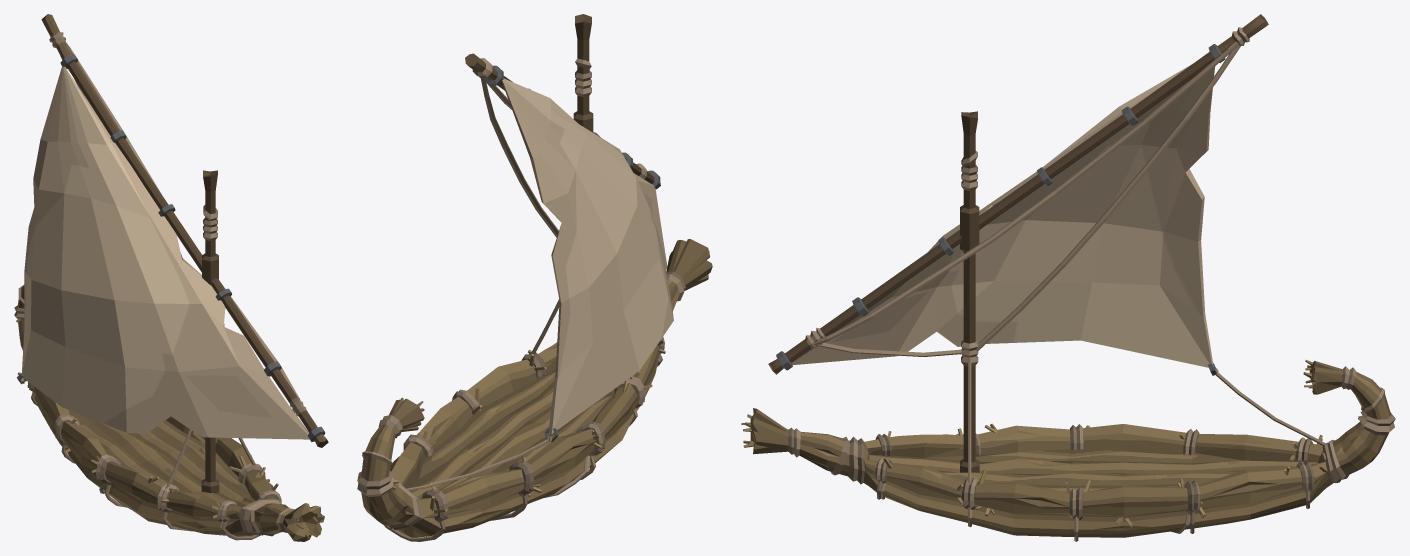
File: SM_Veh_Boat_Small_01.fbx
3 views of the same model, side by side, from view 1: azimuth 30°, elevation 25°; view 2: azimuth 150°, elevation 25°; view 3: azimuth 270°, elevation 25° (orthographic). The views are drawn at different scales.
Visible parts, largest first — view 1: SM_Veh_Boat_Small_01; view 2: SM_Veh_Boat_Small_01; view 3: SM_Veh_Boat_Small_01.
Boxes of the visible parts, box(x1,y1,x2,y2) form: SM_Veh_Boat_Small_01: box(14, 14, 328, 541); SM_Veh_Boat_Small_01: box(357, 14, 712, 541); SM_Veh_Boat_Small_01: box(741, 14, 1395, 541).
Size of the model in its own units: 251 by 641 by 760.
